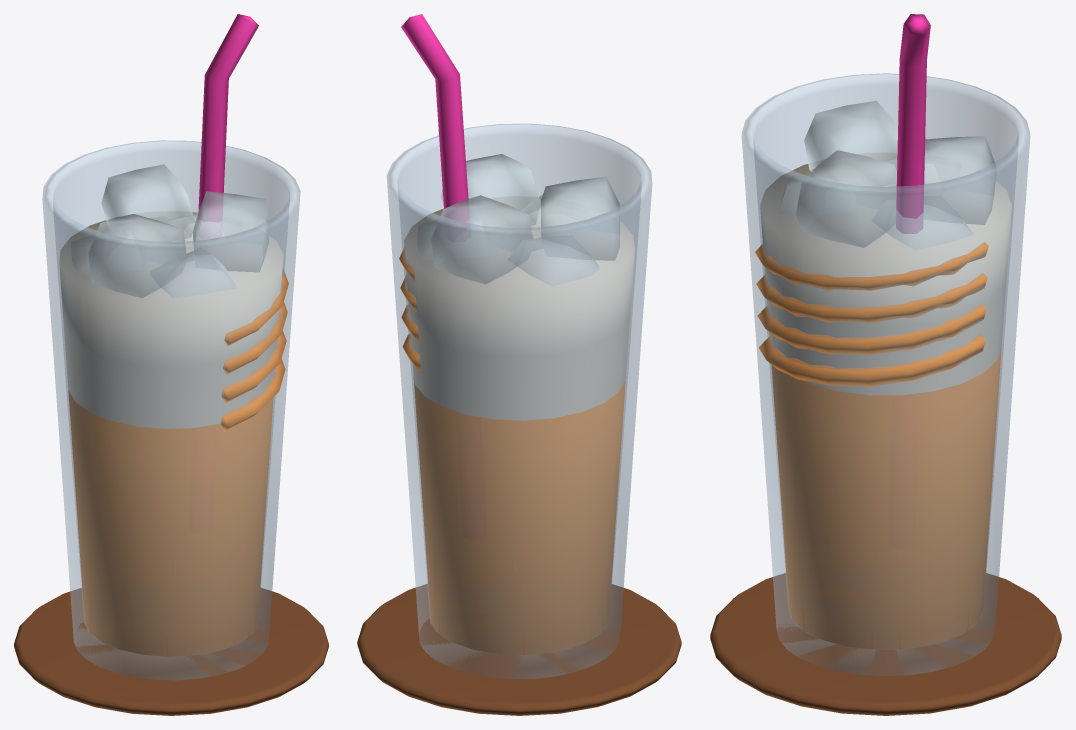
3 views of the same model, side by side, from view 1: azimuth 30°, elevation 25°; view 2: azimuth 150°, elevation 25°; view 3: azimuth 270°, elevation 25° (orthographic). The views are drawn at different scales.
Visible parts, largest first — view 1: glass, tea, milk, coaster, ice, straw, swirl; view 2: glass, tea, milk, coaster, ice, straw, swirl; view 3: glass, tea, milk, coaster, ice, swirl, straw.
Part boxes in pixels (x1,y1,x2,y2): glass: (42, 140, 300, 680); tea: (68, 390, 273, 656); milk: (59, 211, 283, 428); coaster: (14, 588, 328, 715); ice: (71, 164, 268, 297); straw: (198, 14, 258, 221); swirl: (220, 269, 288, 431); glass: (386, 123, 652, 678); tea: (413, 374, 625, 654); milk: (404, 196, 634, 420); coaster: (357, 584, 681, 715); ice: (418, 154, 619, 285); straw: (401, 14, 469, 222); swirl: (399, 247, 420, 370); glass: (741, 73, 1030, 675); tea: (771, 348, 1001, 649); milk: (760, 153, 1011, 395); coaster: (710, 573, 1061, 715); ice: (779, 100, 996, 250); swirl: (755, 242, 988, 386); straw: (896, 14, 930, 233).
Bounding box in the file's own units: 0.09 × 0.1909 × 0.09.
